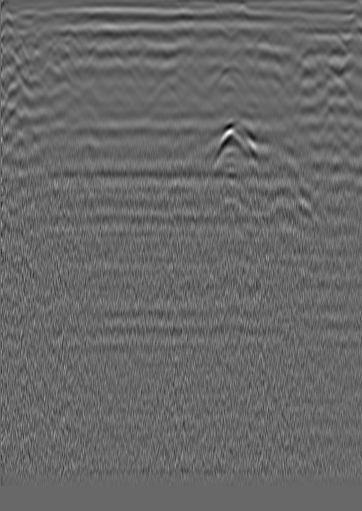가스: (203, 114, 259, 168)
상수: (316, 28, 355, 53)
오수: (11, 37, 31, 57)
우수: (172, 24, 192, 44)
